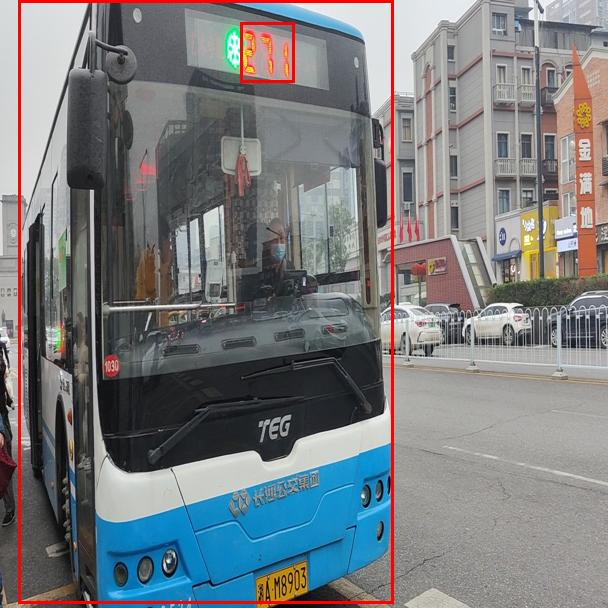bus: (18, 0, 393, 603)
screen: (240, 22, 294, 82)
